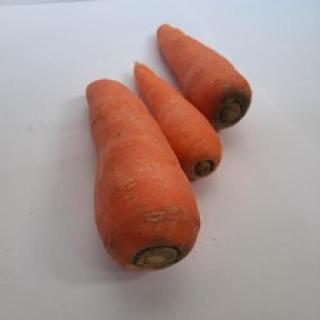carrot: (80, 78, 202, 270), (156, 22, 253, 124), (134, 63, 222, 173)
